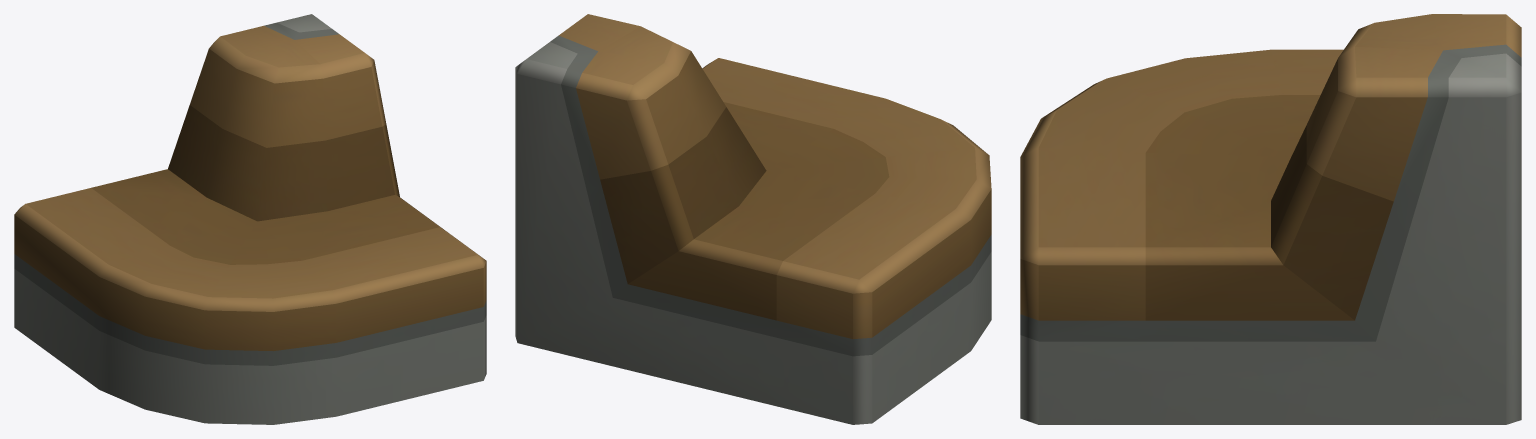
Rendered from chair_roof_corner_conv_wood.fbx.
The picture shows the model from 3 angles, left to right: view 1: azimuth 30°, elevation 25°; view 2: azimuth 150°, elevation 25°; view 3: azimuth 270°, elevation 25°; orthographic projection. The views are drawn at different scales.
Visible parts, largest first — view 1: chair_roof_corner_conv_wood; view 2: chair_roof_corner_conv_wood; view 3: chair_roof_corner_conv_wood.
Boxes of the visible parts, <box> form: chair_roof_corner_conv_wood: <box>14,14,486,424</box>; chair_roof_corner_conv_wood: <box>515,14,991,424</box>; chair_roof_corner_conv_wood: <box>1020,14,1521,424</box>.
Size of the model in its own units: 100 by 75 by 100.
